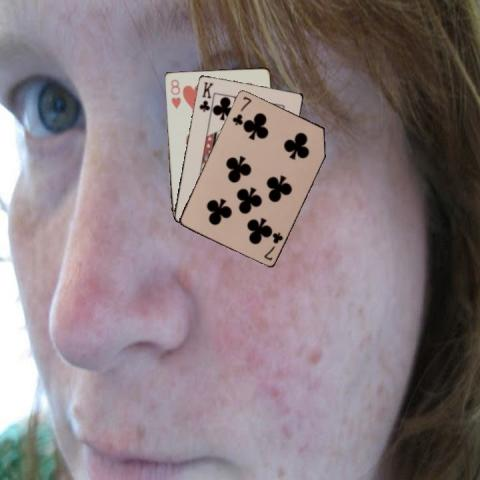7c: (229, 93, 253, 127), (260, 229, 284, 261)
8h: (167, 76, 182, 110)
Kc: (196, 78, 215, 112)
